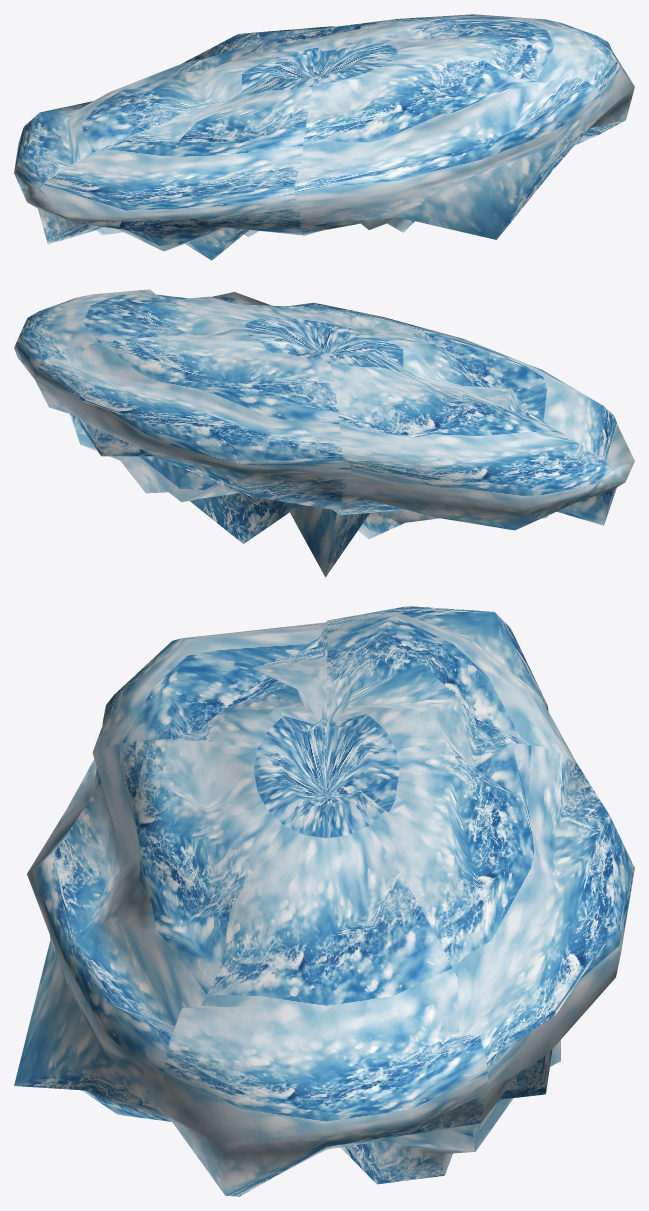
The model's file is hielo.fbx.
3 renders of one model, top to bottom at view 1: azimuth 30°, elevation 25°; view 2: azimuth 150°, elevation 25°; view 3: azimuth 270°, elevation 25°, orthographic. The views are drawn at different scales.
Parts seen in each view (by area): view 1: pSphere1; view 2: pSphere1; view 3: pSphere1.
Boxes of the visible parts, box(x1,y1,x2,y2) form: pSphere1: box(14, 14, 634, 260); pSphere1: box(14, 289, 634, 577); pSphere1: box(14, 606, 634, 1196).
Bounding box in the file's own units: 8.33 × 2.53 × 4.28.
Materials: 1 (1 with a texture image).
